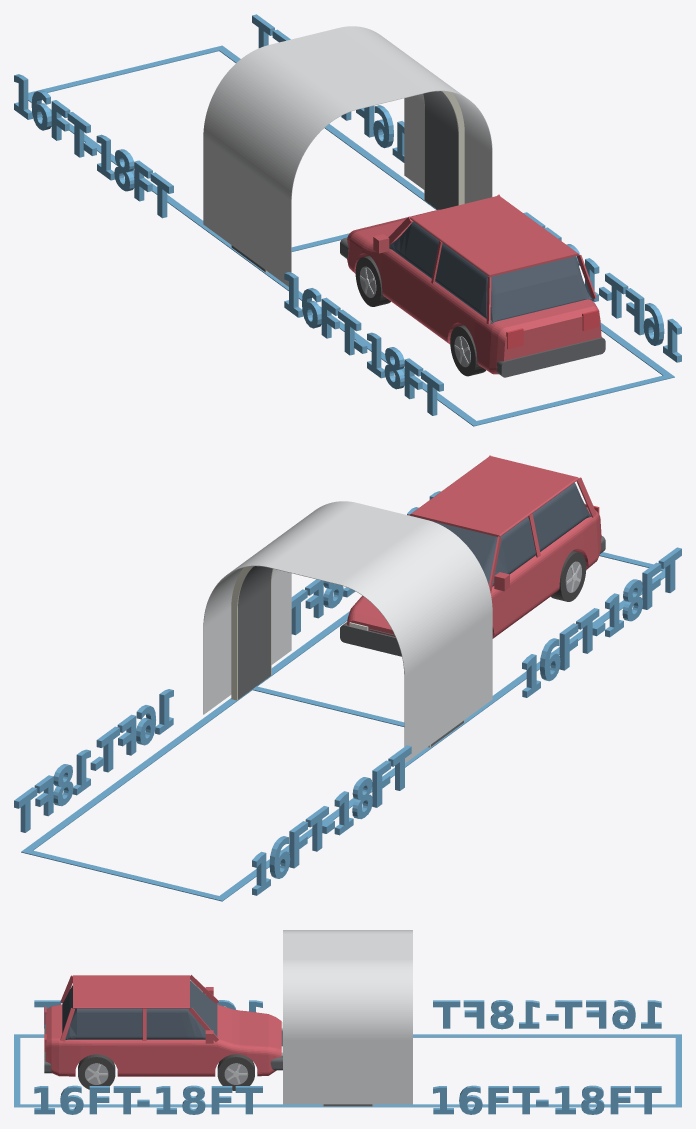
Rendered from colibri-cover-suv.glb.
3 views of the same model, one above another, from view 1: azimuth 30°, elevation 25°; view 2: azimuth 150°, elevation 25°; view 3: azimuth 270°, elevation 25° (orthographic). The views are drawn at different scales.
Parts seen in each view (by area): view 1: sun_cover, vehicle_body, vehicle_glass, vehicle_roof, label_near_end_other_side, label_far_end_other_side, arch_shell, label_near_end, label_far_end, vehicle_bumper_rear, lane_left, lane_right (+5 smaller); view 2: sun_cover, vehicle_roof, vehicle_body, label_near_end_other_side, label_far_end, label_far_end_other_side, vehicle_glass, arch_shell, lane_right, lane_left, label_near_end, vehicle_bumper_front (+4 smaller); view 3: sun_cover, vehicle_body, vehicle_glass, vehicle_roof, label_far_end_other_side, label_near_end, label_far_end, lane_right, lane_left, vehicle_tire_front_r, vehicle_tire_rear_r, lane_near_end (+4 smaller).
Part boxes in pixels (x1,y1,x2,y2): sun_cover: [203, 26, 492, 286]; vehicle_body: [347, 209, 601, 374]; vehicle_glass: [389, 221, 592, 323]; vehicle_roof: [410, 195, 578, 276]; label_near_end_other_side: [284, 272, 443, 415]; label_far_end_other_side: [14, 74, 173, 218]; arch_shell: [232, 91, 457, 271]; label_near_end: [523, 212, 681, 362]; label_far_end: [252, 14, 404, 162]; vehicle_bumper_rear: [496, 337, 605, 377]; lane_left: [28, 93, 480, 426]; lane_right: [215, 45, 674, 378]; sun_cover: [203, 501, 492, 763]; vehicle_roof: [410, 456, 578, 536]; vehicle_body: [347, 507, 601, 638]; label_near_end_other_side: [522, 547, 681, 697]; label_far_end: [14, 689, 173, 832]; label_far_end_other_side: [252, 745, 411, 895]; vehicle_glass: [414, 482, 591, 586]; arch_shell: [238, 566, 463, 746]; lane_right: [21, 611, 349, 853]; lane_left: [215, 570, 665, 901]; label_near_end: [291, 491, 440, 635]; vehicle_bumper_front: [340, 622, 401, 656]; sun_cover: [283, 930, 412, 1104]; vehicle_body: [45, 1004, 281, 1076]; vehicle_glass: [62, 980, 217, 1040]; vehicle_roof: [73, 975, 189, 1008]; label_far_end_other_side: [433, 1000, 661, 1029]; label_near_end: [34, 1085, 262, 1114]; label_far_end: [433, 1085, 661, 1114]; lane_right: [14, 1104, 681, 1107]; lane_left: [14, 1034, 681, 1037]; vehicle_tire_front_r: [217, 1054, 254, 1090]; vehicle_tire_rear_r: [78, 1054, 115, 1089]; lane_near_end: [14, 1034, 20, 1107].
Bounding box in the file's own units: 3.98 × 2.63 × 12.86.
